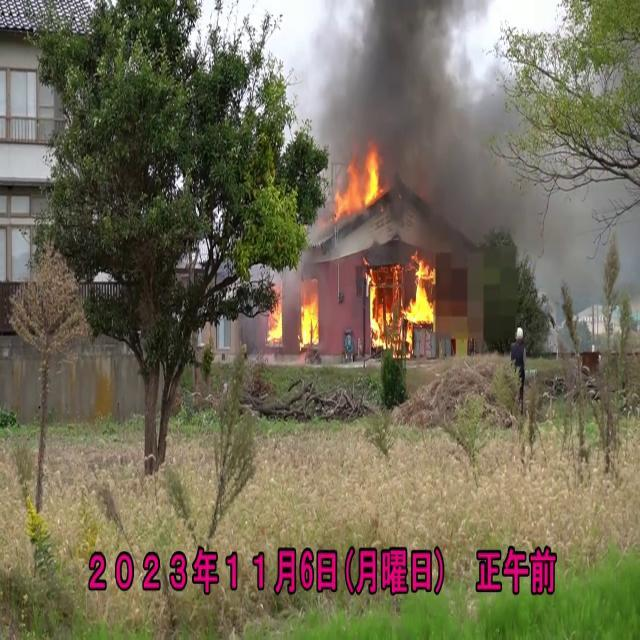Fire: (364, 252, 441, 351), (330, 143, 385, 224), (266, 286, 322, 354)
Smoke: (319, 0, 519, 184)
